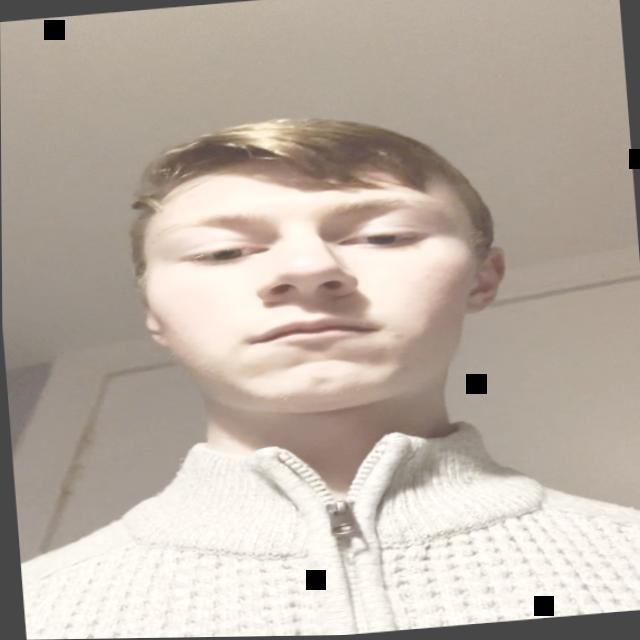NO-Mask: (114, 107, 518, 438)
